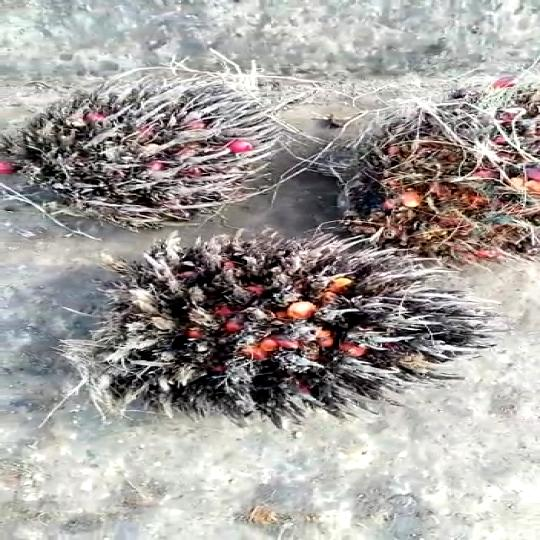terlalu masak: (84, 224, 495, 432), (0, 66, 328, 237)
